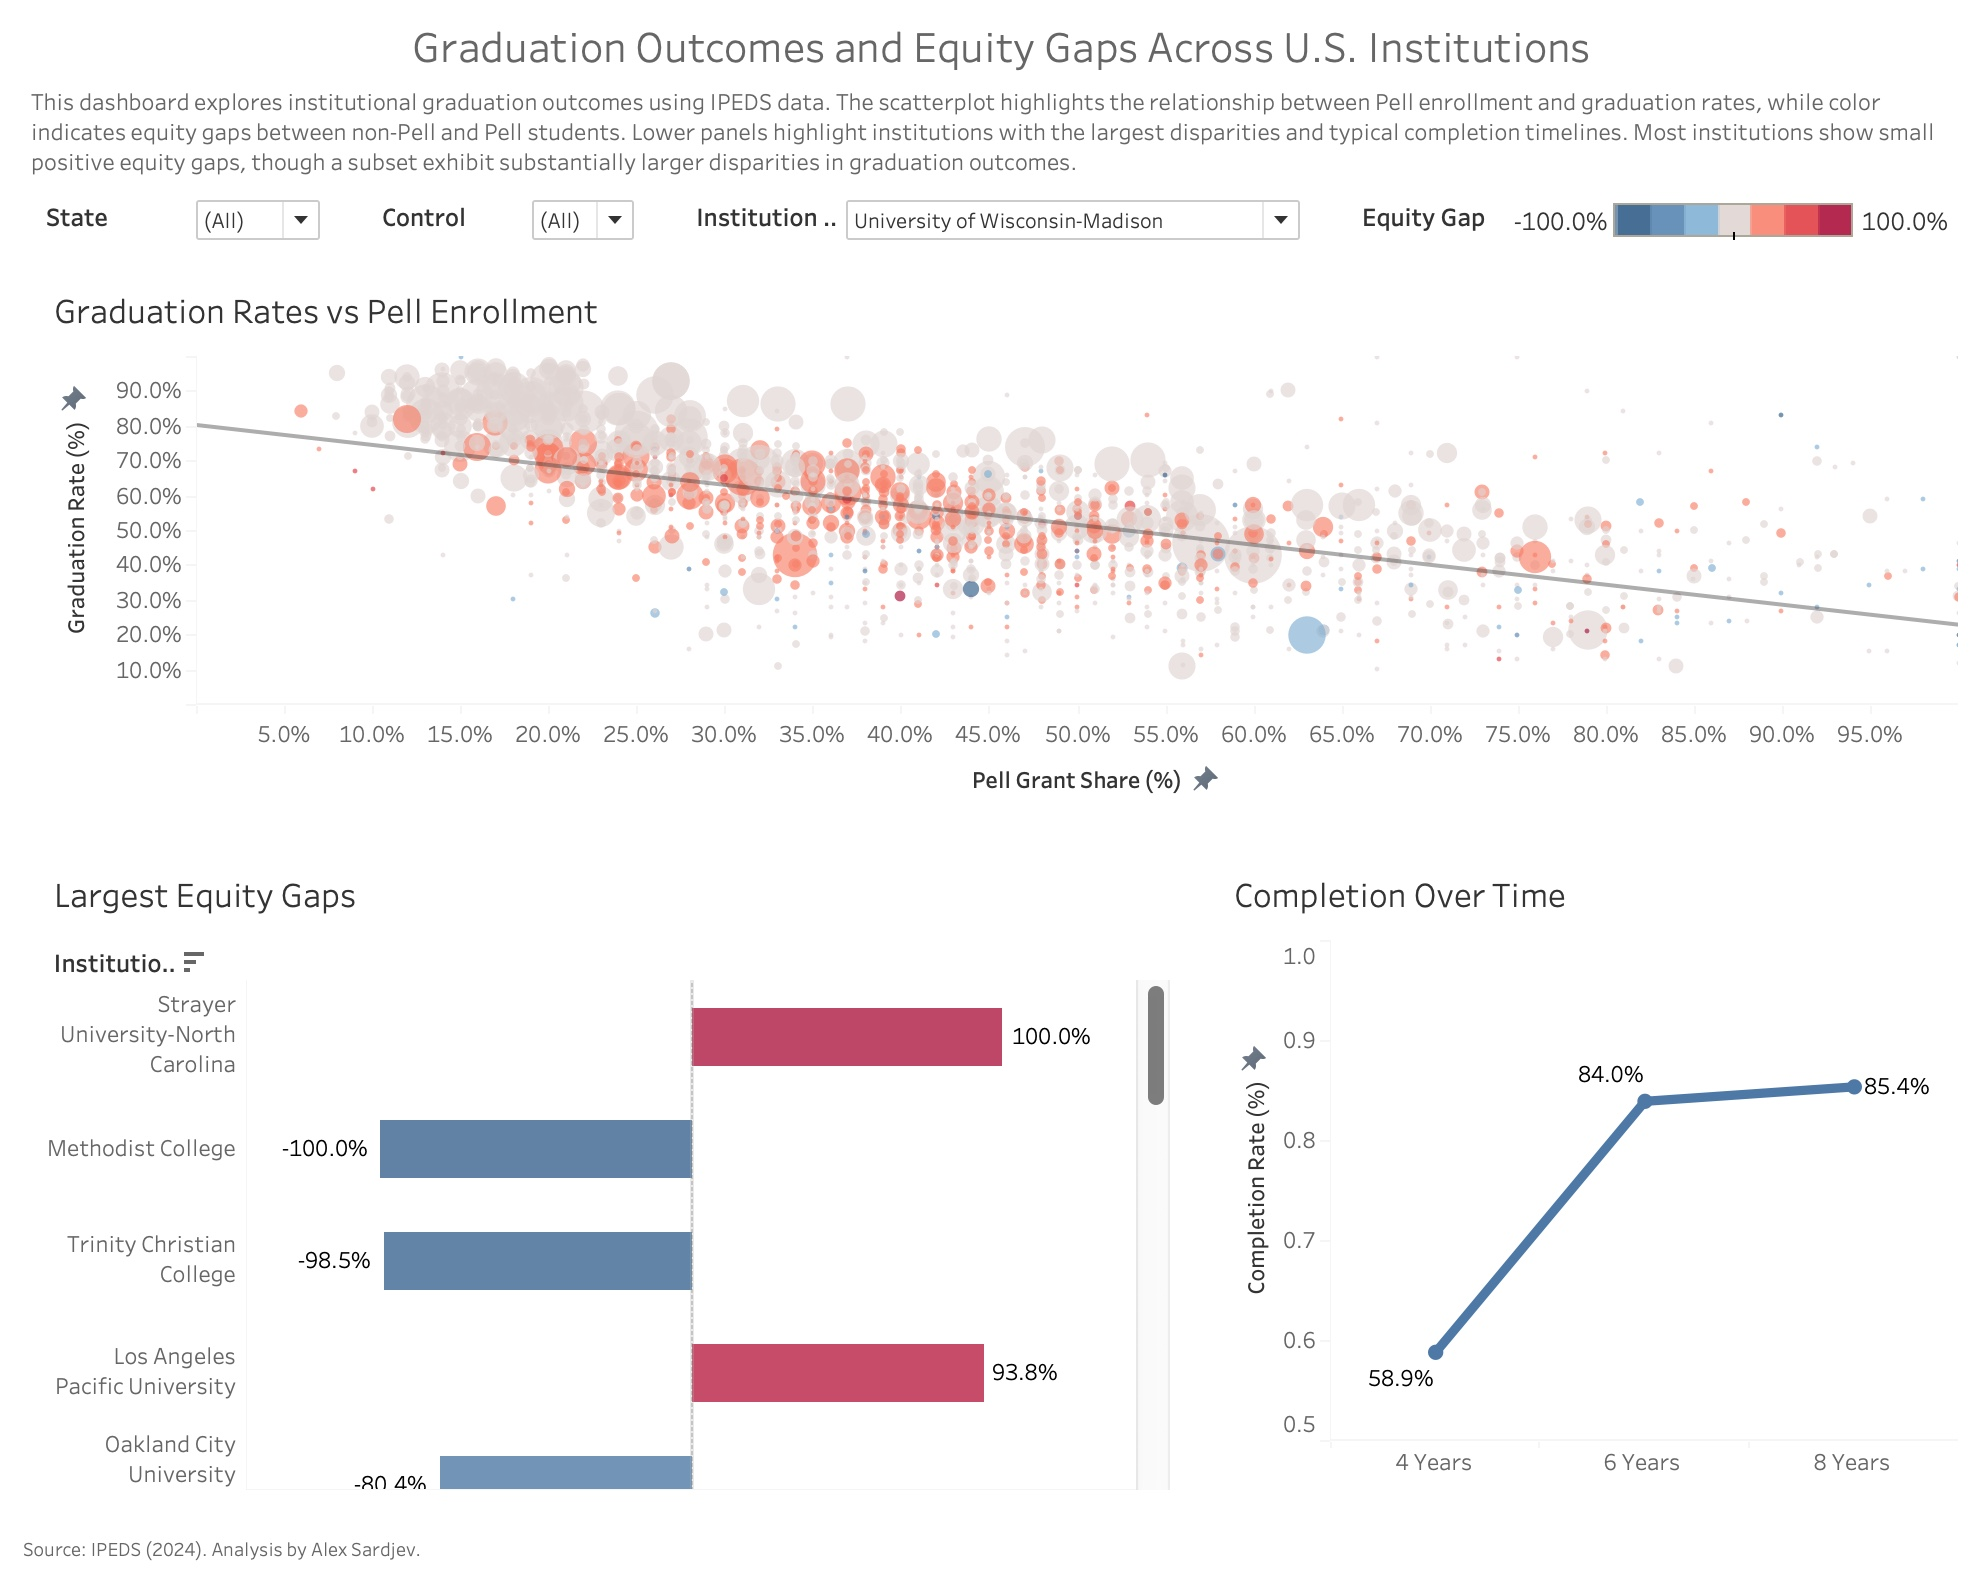

Layout of this report page (visuals, bound fields, positions):
{"tool":"tableau","page":{"name":"Dashboard 1","canvas":[1000,800],"ordinal":0},"visuals":[{"type":"text","box":[8,8,984,33.1]},{"type":"text","box":[8,41.1,984,53.9]},{"type":"filter","title":"Pell % vs Graduation Rate","param":"[federated.05pf1bg0tkv2ib16qgv500xd692z].[none:state:nk]","box":[8,95,168,32]},{"type":"filter","title":"Pell % vs Graduation Rate","param":"[federated.05pf1bg0tkv2ib16qgv500xd692z].[none:control:nk]","box":[176,95,157,32]},{"type":"filter","title":"Completion Timeline","param":"[federated.05pf1bg0tkv2ib16qgv500xd692z].[none:institution_name:nk]","box":[333,95,333,32]},{"type":"legend","title":"Pell % vs Graduation Rate","param":"[federated.05pf1bg0tkv2ib16qgv500xd692z].[avg:Calculation_6862391730692097:qk]","box":[666,95,326,32]},{"type":"worksheet","title":"Pell % vs Graduation Rate","mark":"Circle","rows":["grad_rate"],"cols":["pell_pct"],"box":[8,127,984,292]},{"type":"worksheet","title":"Top 15 Equity Gap","mark":"Bar","rows":["institution_name"],"cols":["Calculation_6862391730692097"],"box":[8,419,590,341]},{"type":"worksheet","title":"Completion Timeline","mark":"Line","box":[598,419,394,341]},{"type":"text","box":[8,760,984,32]}]}

Visuals, with their boxes in screenshot pixels (x1, y1, x2, y2), scaled from the page's 1000x800 canvas onto the 1972x1594 screenshot:
text: box(16, 16, 1956, 82)
text: box(16, 82, 1956, 189)
"Pell % vs Graduation Rate" filter: box(16, 189, 347, 253)
"Pell % vs Graduation Rate" filter: box(347, 189, 657, 253)
"Completion Timeline" filter: box(657, 189, 1313, 253)
"Pell % vs Graduation Rate" legend: box(1313, 189, 1956, 253)
"Pell % vs Graduation Rate" worksheet (Circle marks): box(16, 253, 1956, 835)
"Top 15 Equity Gap" worksheet (Bar marks): box(16, 835, 1179, 1514)
"Completion Timeline" worksheet (Line marks): box(1179, 835, 1956, 1514)
text: box(16, 1514, 1956, 1578)
